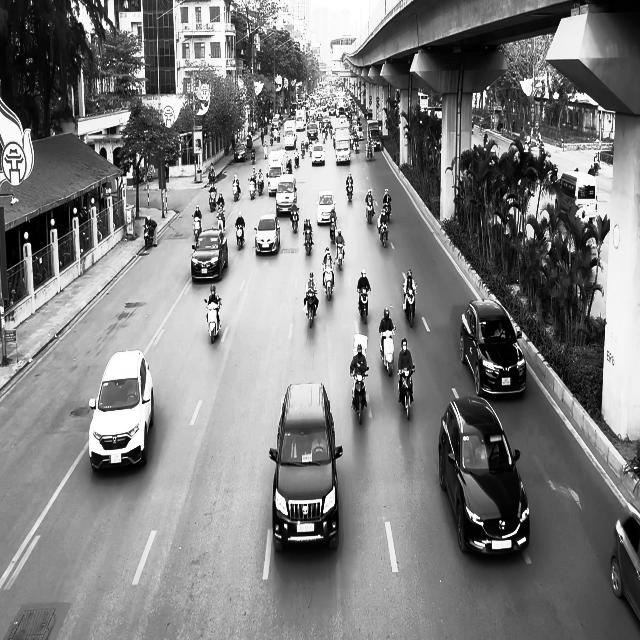car: (438, 395, 530, 557), (269, 382, 343, 552), (88, 349, 154, 472), (459, 299, 526, 397), (610, 501, 640, 622), (191, 228, 228, 282), (254, 213, 280, 254), (316, 190, 336, 225)
motorbike: (350, 366, 369, 424), (397, 366, 415, 420), (379, 326, 396, 376), (204, 297, 221, 344), (402, 282, 417, 327), (304, 289, 318, 328), (144, 216, 158, 249), (322, 262, 334, 300), (358, 288, 370, 324), (377, 215, 389, 248), (334, 240, 344, 270), (303, 226, 313, 255), (192, 214, 202, 243), (290, 207, 299, 233), (366, 197, 374, 224), (236, 224, 244, 250), (329, 216, 337, 242), (208, 188, 216, 212), (232, 182, 240, 202), (346, 183, 353, 202)
